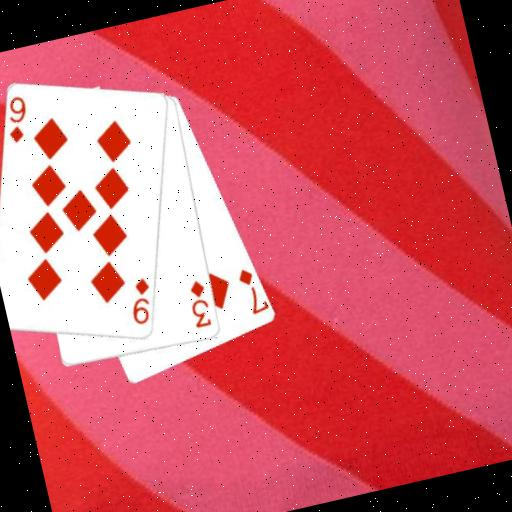3D: (182, 276, 215, 331)
7D: (233, 263, 270, 319)
9D: (122, 274, 160, 329), (0, 91, 36, 146)
